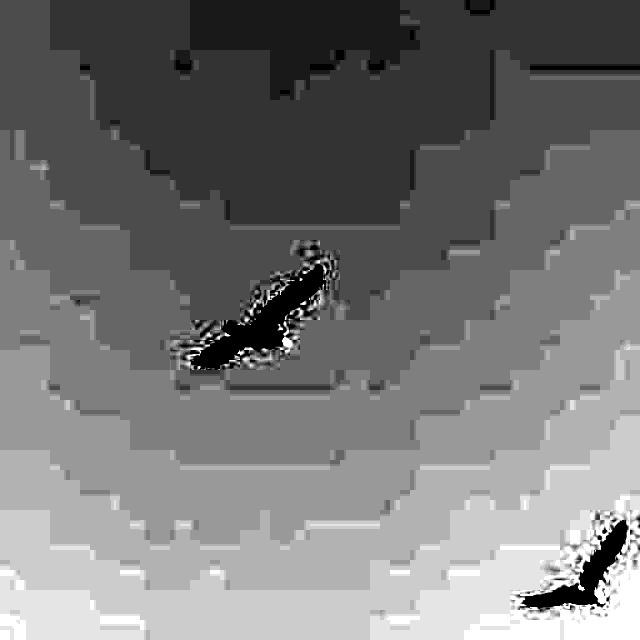airplane: (192, 266, 322, 368), (522, 524, 625, 608)
